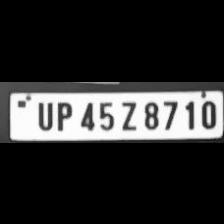0: (196, 97, 218, 129)
1: (180, 96, 196, 130)
4: (74, 97, 96, 130)
5: (96, 98, 116, 130)
7: (160, 96, 180, 130)
8: (140, 98, 160, 130)
P: (52, 97, 74, 130)
U: (32, 98, 54, 130)
Z: (116, 97, 138, 130)
